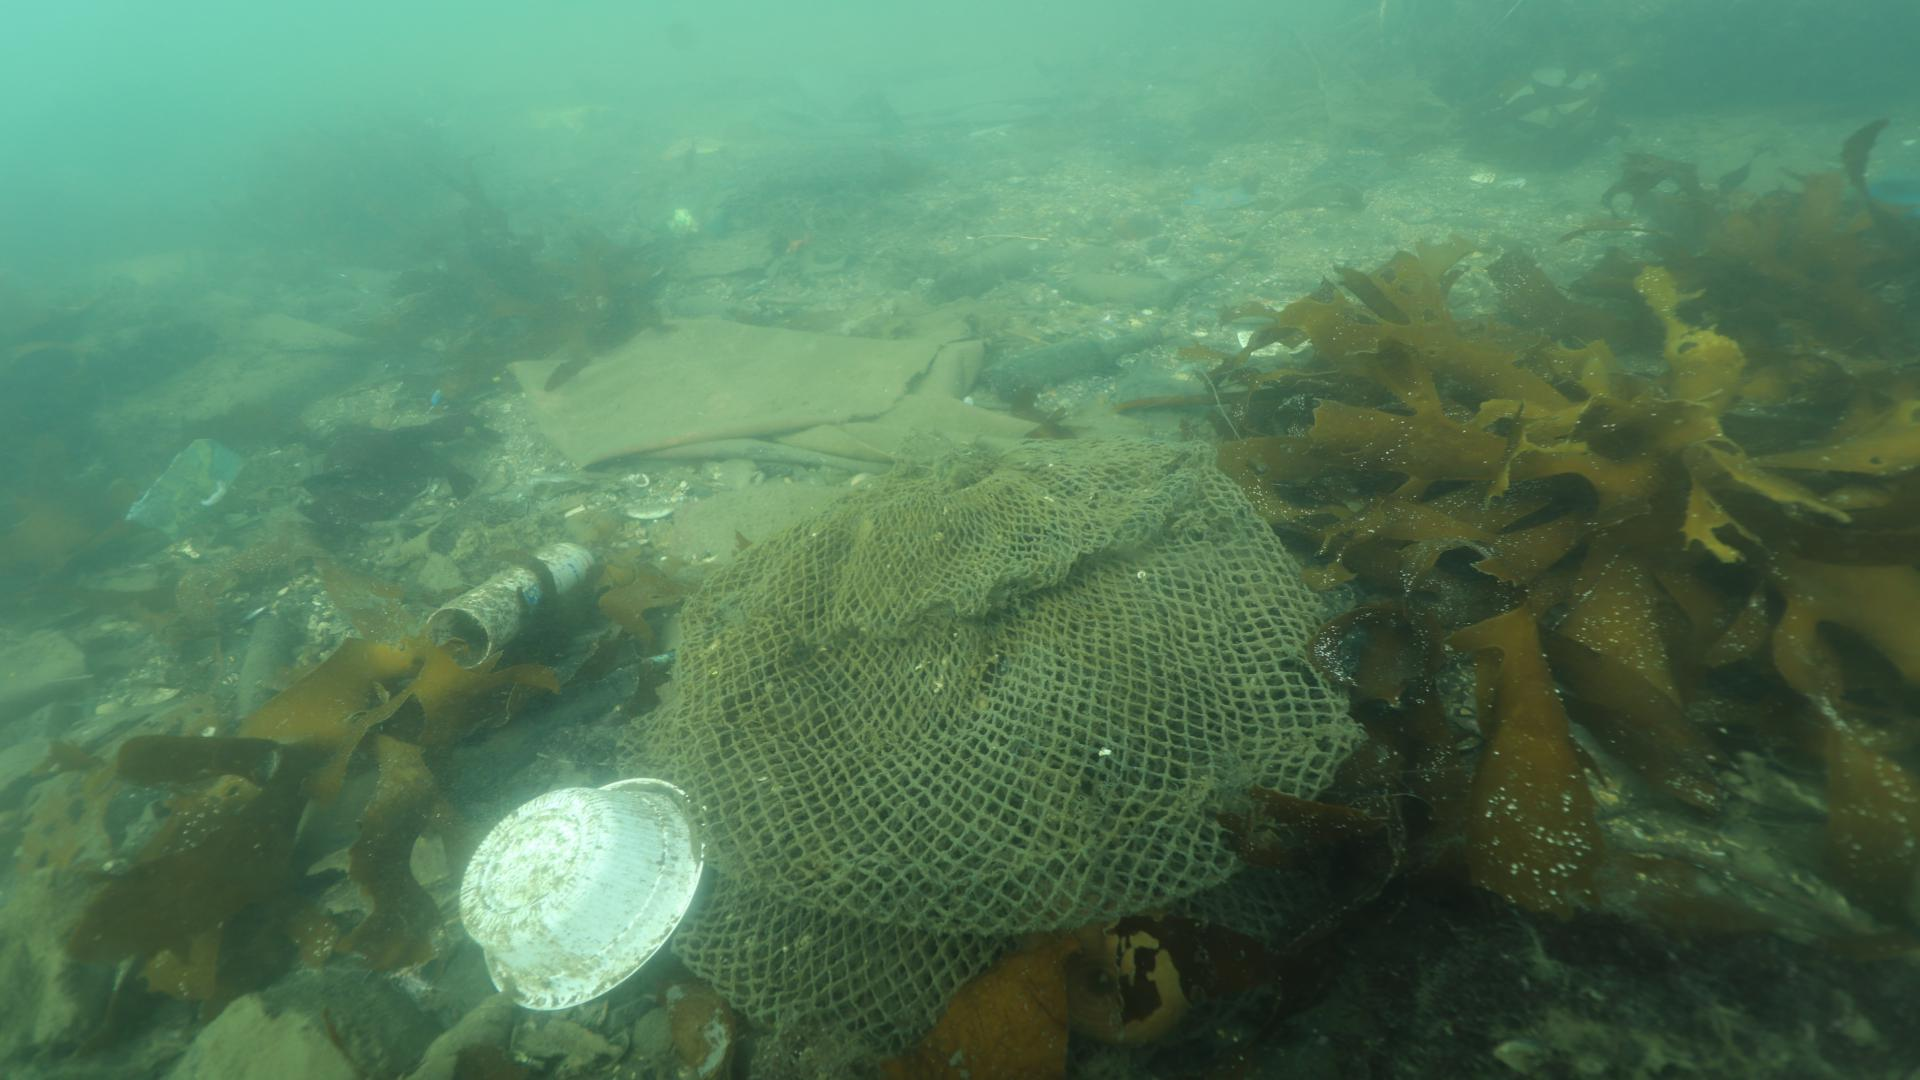fish net: (607, 431, 1362, 1052)
